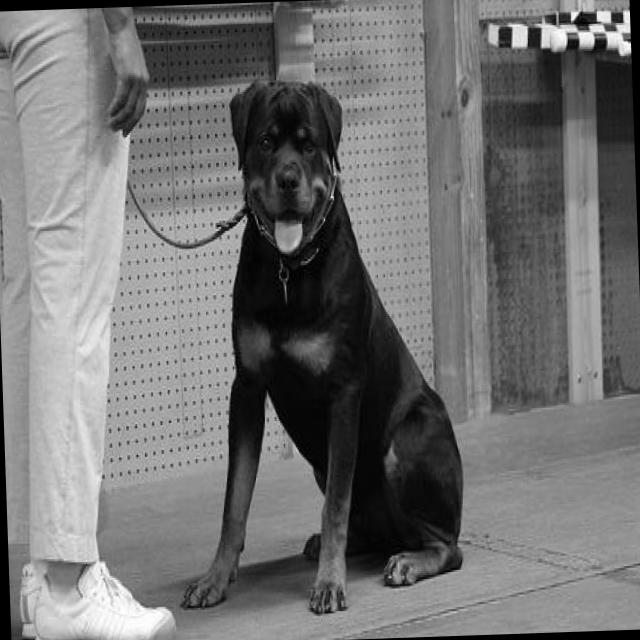sitting: (160, 69, 481, 625)
